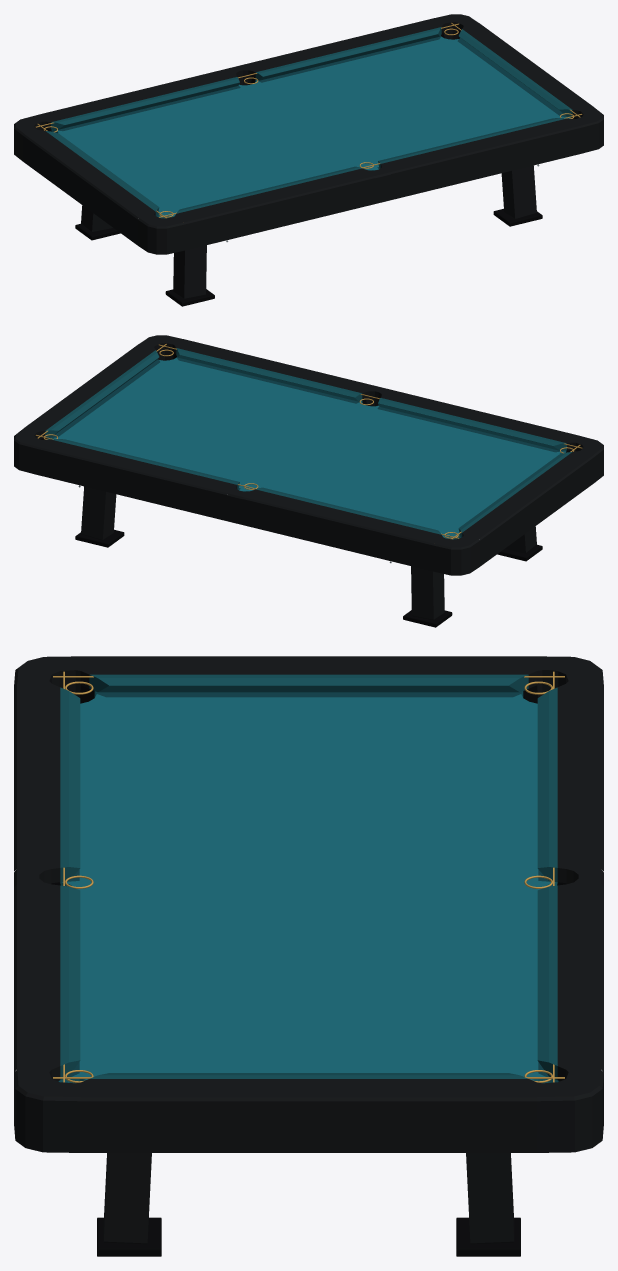
Rendered from table-eightball-10-chinese-ebony.glb.
3 views of the same model, one above another, from view 1: azimuth 30°, elevation 25°; view 2: azimuth 150°, elevation 25°; view 3: azimuth 270°, elevation 25° (orthographic). The views are drawn at different scales.
Visible parts, largest first — view 1: table-eightball-10-chinese-ebony, break-builder-table-support, chinese-steel-cushion-details; view 2: table-eightball-10-chinese-ebony, break-builder-table-support, chinese-steel-cushion-details; view 3: table-eightball-10-chinese-ebony, break-builder-table-support, chinese-steel-cushion-details.
Boxes of the visible parts, x1,y1,x2,y2 form: table-eightball-10-chinese-ebony: [14, 14, 603, 254]; break-builder-table-support: [75, 165, 542, 306]; chinese-steel-cushion-details: [35, 23, 582, 218]; table-eightball-10-chinese-ebony: [14, 335, 603, 575]; break-builder-table-support: [75, 486, 542, 627]; chinese-steel-cushion-details: [35, 344, 582, 539]; table-eightball-10-chinese-ebony: [14, 656, 603, 1152]; break-builder-table-support: [97, 1153, 520, 1256]; chinese-steel-cushion-details: [53, 671, 564, 1082].
Bounding box in the file's own units: 2.87 × 0.6219 × 1.61.
